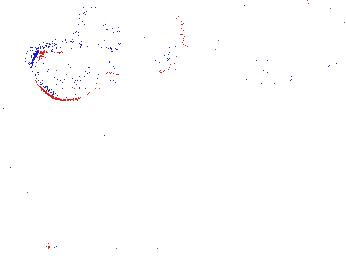moon jellyfish: (139, 1, 262, 109), (74, 1, 186, 81), (243, 1, 346, 65), (32, 42, 107, 101)
